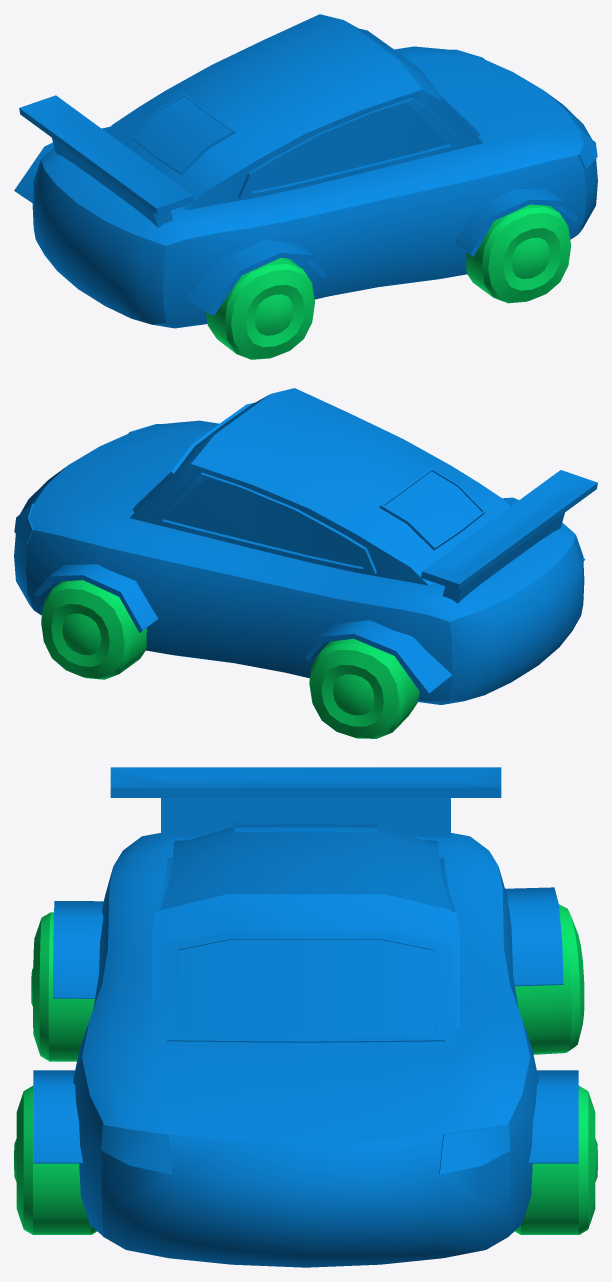
File: SM_Nascar_low.fbx
3 views of the same model, one above another, from view 1: azimuth 30°, elevation 25°; view 2: azimuth 150°, elevation 25°; view 3: azimuth 270°, elevation 25° (orthographic). The views are drawn at different scales.
Parts seen in each view (by area): view 1: SM_Base_low, SM_RouesArrieresDroite_low, SM_RouesAvantDroite_low; view 2: SM_Base_low, SM_RouesArrieresGauche_low, SM_RouesAvantGauche_low; view 3: SM_Base_low, SM_RouesAvantGauche_low, SM_RouesAvantDroite_low, SM_RouesArrieresGauche_low, SM_RouesArrieresDroite_low.
Boxes of the visible parts, x1,y1,x2,y2 form: SM_Base_low: (14, 14, 597, 328); SM_RouesArrieresDroite_low: (205, 257, 314, 359); SM_RouesAvantDroite_low: (466, 204, 570, 303); SM_Base_low: (14, 388, 597, 704); SM_RouesArrieresGauche_low: (309, 638, 419, 738); SM_RouesAvantGauche_low: (41, 580, 146, 679); SM_Base_low: (33, 767, 578, 1267); SM_RouesAvantGauche_low: (514, 1086, 597, 1234); SM_RouesAvantDroite_low: (14, 1086, 97, 1234); SM_RouesArrieresGauche_low: (515, 904, 584, 1054); SM_RouesArrieresDroite_low: (31, 912, 94, 1061).
Bounding box in the file's own units: 242 × 95.29 × 173.
